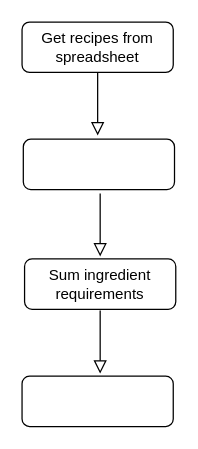
Some shapes in this 198 by 449 pixel diagram are drawn without their labels. The shapes that lost their labels are listed below. From the top down, each one's centre as x and y in pixels, then its label:
At (98,164): "Get orders from user".
At (97,401): "Display Shopping List on screen".
